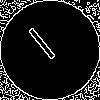I: (25, 25, 65, 69)
